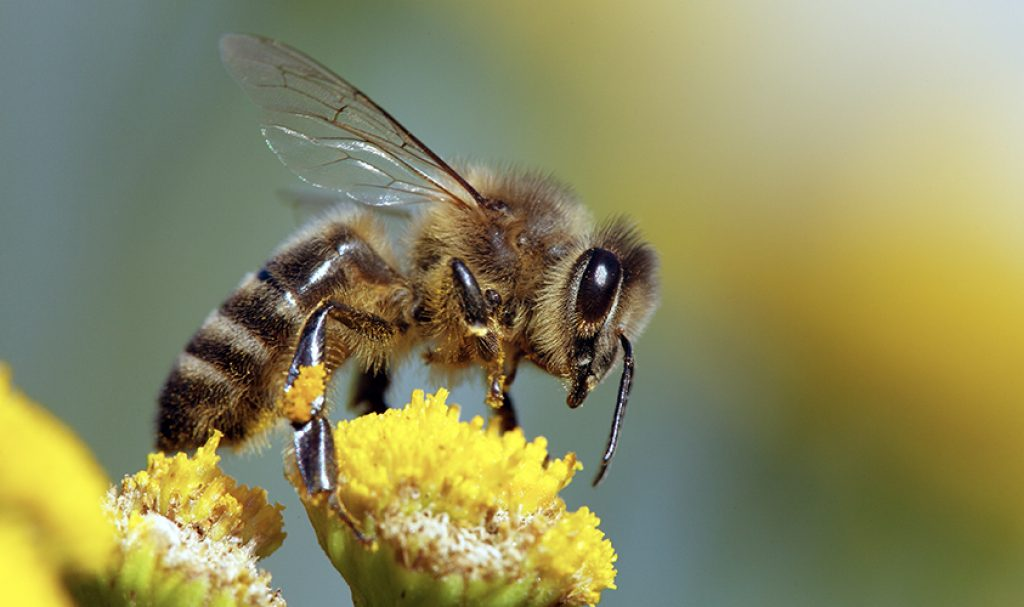bee: (124, 131, 683, 498)
